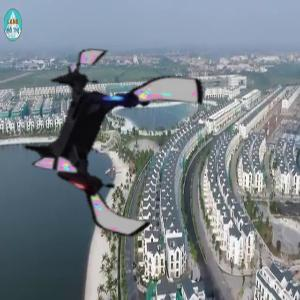drone: (16, 48, 209, 241)
